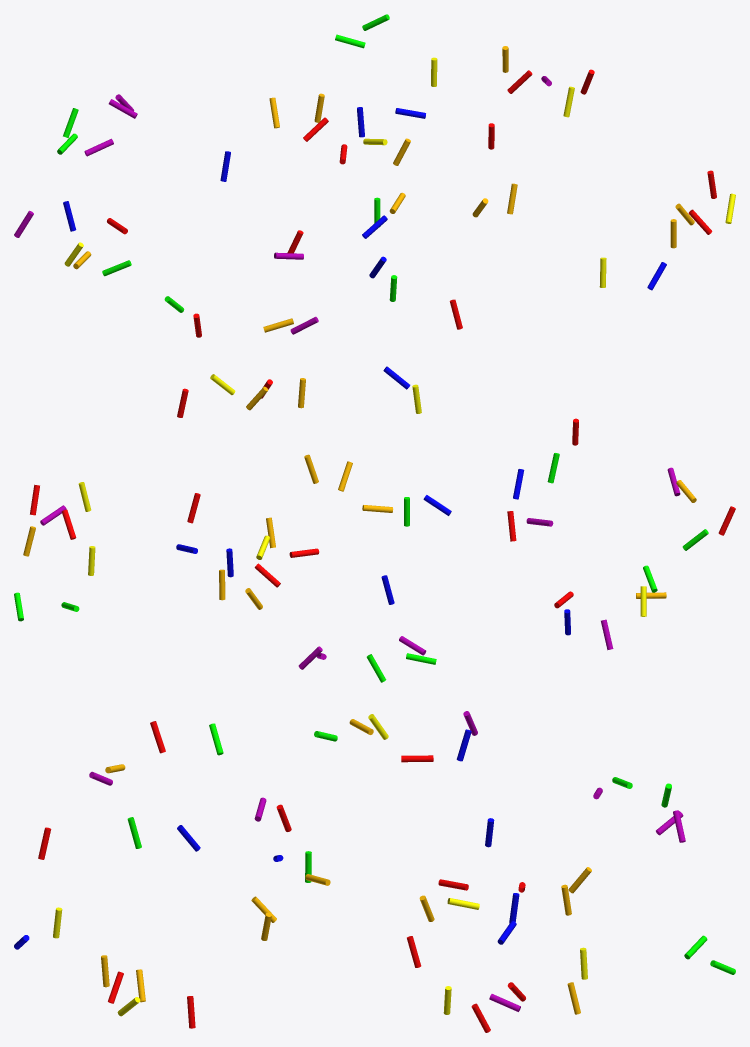
Rendered from rainbow_square.glb.
3 renders of one model, top to bottom at view 1: azimuth 30°, elevation 25°; view 2: azimuth 150°, elevation 25°; view 3: azimuth 270°, elevation 25°, orthographic. The views are drawn at different scales.
Bounding box in the file's own units: 2.22 × 0.102 × 2.25.
